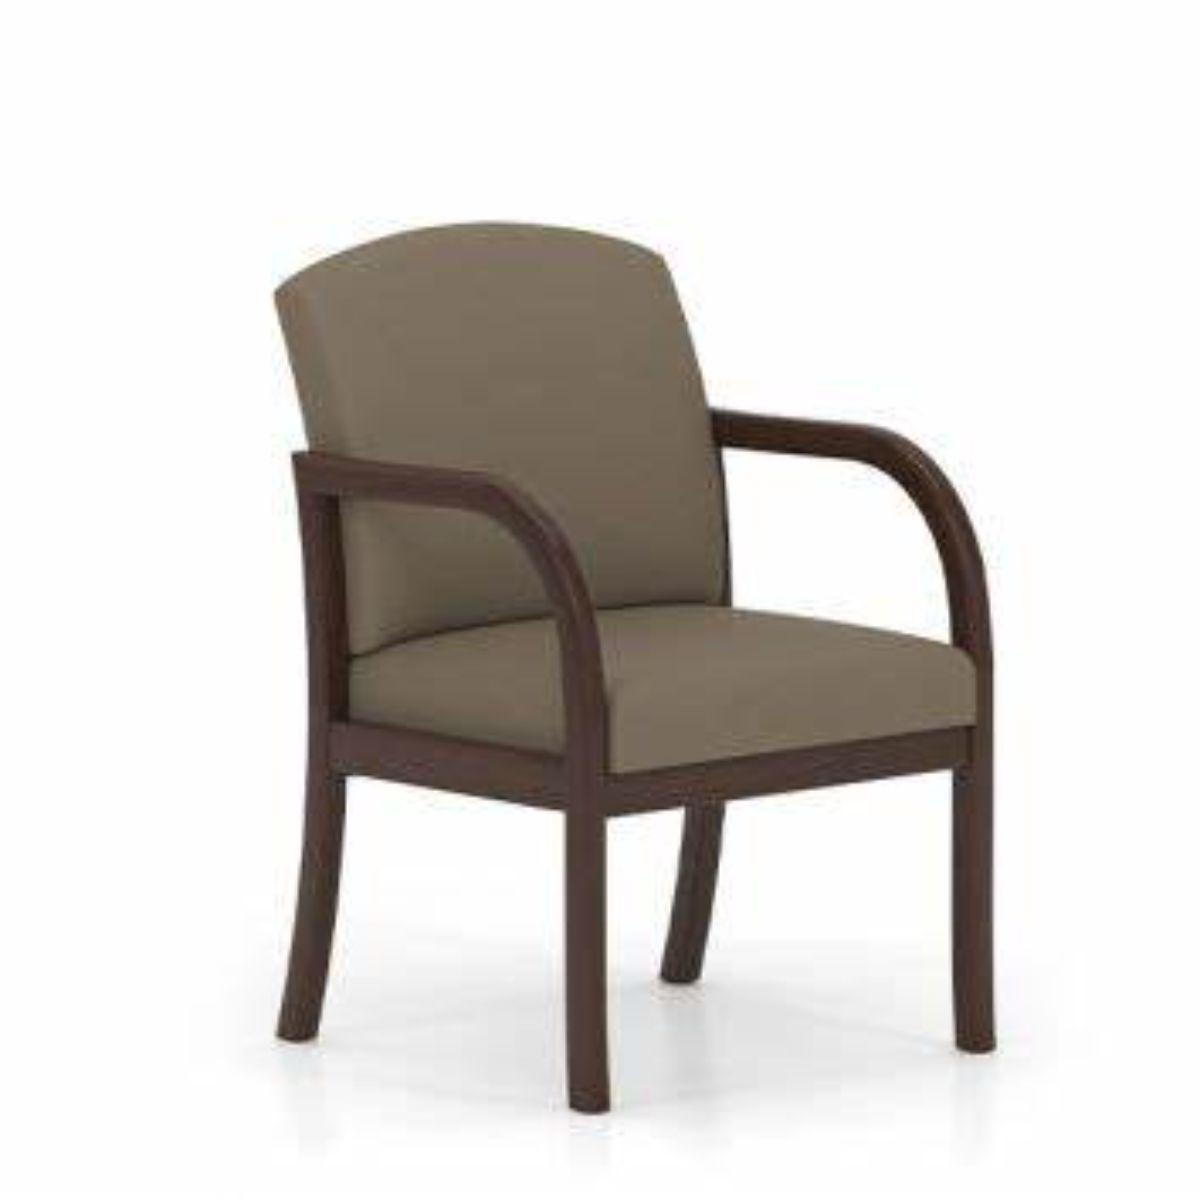Chair: (266, 216, 1009, 1118)
